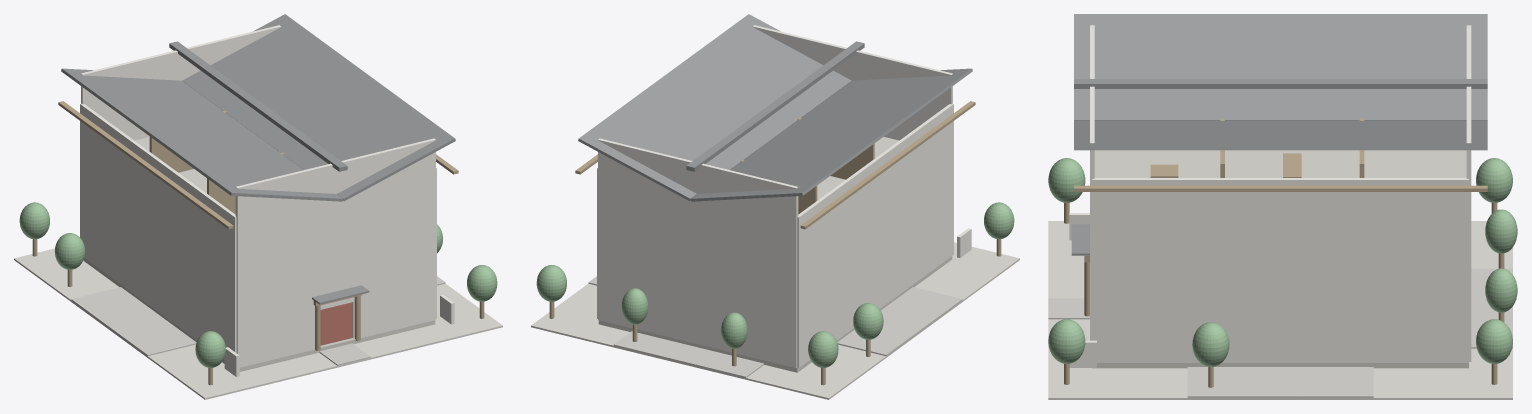
3 renders of one model, left to right at view 1: azimuth 30°, elevation 25°; view 2: azimuth 150°, elevation 25°; view 3: azimuth 270°, elevation 25°, orthographic. The views are drawn at different scales.
Visible parts, largest first — view 1: Roof_East_main, Roof_West_main, Site_Ground, Wall_F2_S, Wall_F3_S, Wall_F2_W, Wall_F3_W, Wall_F1_W, Roof_Gable_S, Wall_F1_S_W, Site_Path_W, Wall_F1_S_E (+15 smaller); view 2: Roof_East_main, Roof_West_main, Wall_F2_N, Wall_F3_N, Site_Ground, Wall_F1_N, Wall_F2_W, Wall_F3_W, Wall_F1_W, Roof_Gable_N, Roof_Gable_S, Site_Path_W (+13 smaller); view 3: Roof_West_main, Wall_F2_E, Wall_F1_E, Wall_F3_E, Site_Ground, Roof_East_main, Slab_F3, Site_Yard_E, Roof_Ridge, Roof_Eave_E, Slab_F1, Site_Yard_N (+13 smaller).
Boxes of the visible parts, x1,y1,x2,y2 form: Roof_East_main: (182, 14, 455, 201); Roof_West_main: (61, 68, 343, 201); Site_Ground: (14, 248, 502, 399); Wall_F2_S: (236, 219, 435, 317); Wall_F3_S: (236, 169, 435, 267); Wall_F2_W: (80, 154, 236, 317); Wall_F3_W: (80, 103, 236, 267); Wall_F1_W: (80, 204, 236, 360); Roof_Gable_S: (235, 138, 435, 217); Wall_F1_S_W: (236, 300, 314, 367); Site_Path_W: (71, 287, 196, 356); Wall_F1_S_E: (352, 270, 435, 338); Roof_East_main: (578, 14, 851, 201); Roof_West_main: (690, 68, 972, 201); Wall_F2_N: (598, 219, 797, 317); Wall_F3_N: (598, 169, 797, 267); Site_Ground: (531, 242, 1019, 399); Wall_F1_N: (598, 270, 797, 368); Wall_F2_W: (797, 154, 953, 317); Wall_F3_W: (797, 103, 953, 267); Wall_F1_W: (797, 204, 953, 367); Roof_Gable_N: (598, 138, 798, 217); Roof_Gable_S: (752, 25, 952, 104); Site_Path_W: (837, 287, 962, 355); Roof_West_main: (1074, 14, 1487, 120); Wall_F2_E: (1092, 241, 1468, 301); Wall_F1_E: (1092, 302, 1468, 362); Wall_F3_E: (1092, 178, 1468, 240); Site_Ground: (1048, 221, 1512, 399); Roof_East_main: (1074, 120, 1487, 150); Slab_F3: (1094, 150, 1466, 177); Site_Yard_E: (1187, 367, 1373, 398); Roof_Ridge: (1074, 79, 1487, 88); Roof_Eave_E: (1074, 185, 1487, 191); Slab_F1: (1092, 363, 1468, 368); Site_Yard_N: (1471, 268, 1512, 348).
Size of the model in its own units: 18.6 by 10.98 by 20.2.
